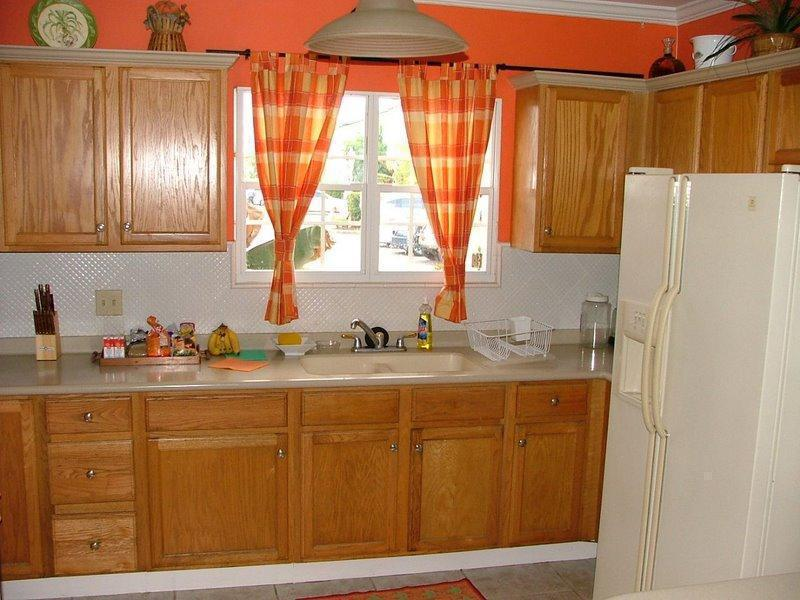Electrodomestico: (620, 154, 792, 571)
Lavaplatos: (305, 305, 484, 395)
